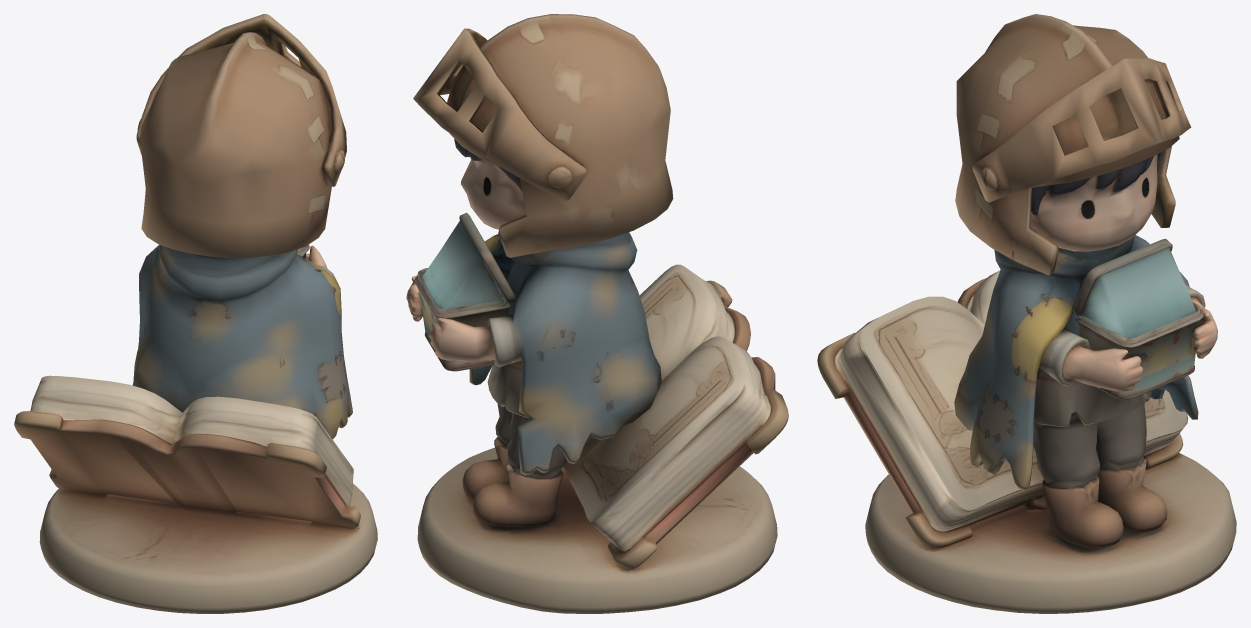
The model's file is figurine-story-gently-closes.glb.
3 renders of one model, left to right at view 1: azimuth 30°, elevation 25°; view 2: azimuth 150°, elevation 25°; view 3: azimuth 270°, elevation 25°, orthographic. The views are drawn at different scales.
Visible parts, largest first — view 1: tripo_node_de6393cb-03b1-4ac6-9aab-c224e7714845; view 2: tripo_node_de6393cb-03b1-4ac6-9aab-c224e7714845; view 3: tripo_node_de6393cb-03b1-4ac6-9aab-c224e7714845.
Part boxes in pixels (x1,y1,x2,y2): tripo_node_de6393cb-03b1-4ac6-9aab-c224e7714845: (14,14,377,613); tripo_node_de6393cb-03b1-4ac6-9aab-c224e7714845: (406,14,788,613); tripo_node_de6393cb-03b1-4ac6-9aab-c224e7714845: (817,14,1236,613).
Bounding box in the file's own units: 0.71 × 0.9995 × 0.7119.
Materials: 1 (1 with a texture image).
